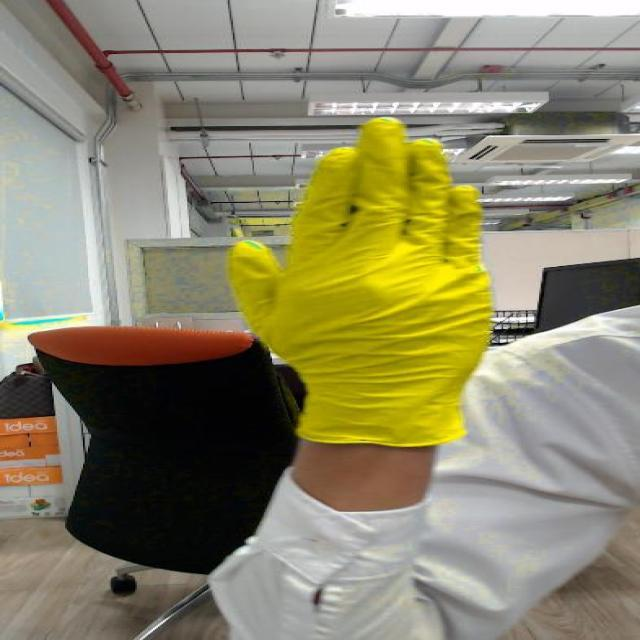gloved_hand: (218, 110, 513, 368)
